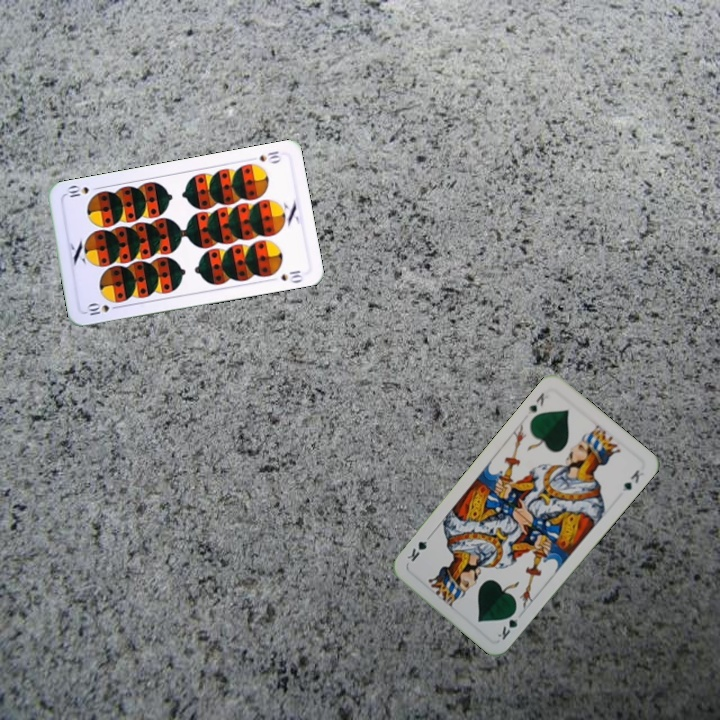GK: (493, 606, 521, 643), (523, 388, 547, 417)
S10: (82, 300, 122, 318), (256, 147, 284, 166)
